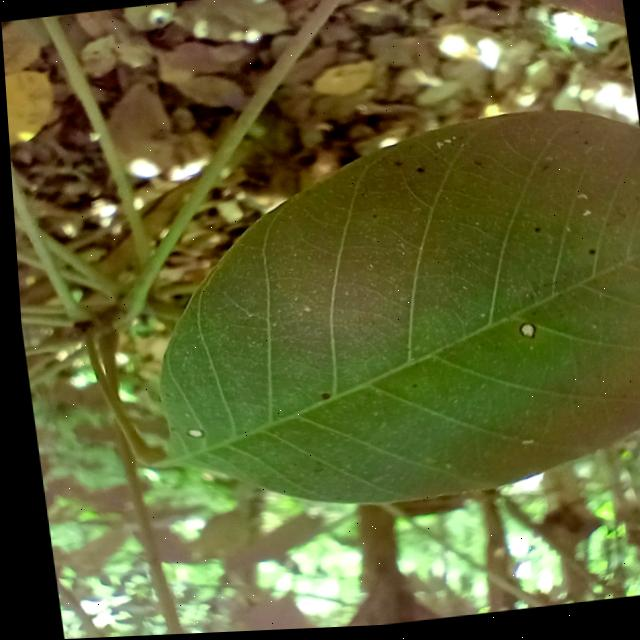Colletotrichum: (513, 327, 532, 345), (179, 428, 199, 441), (316, 395, 324, 402)
